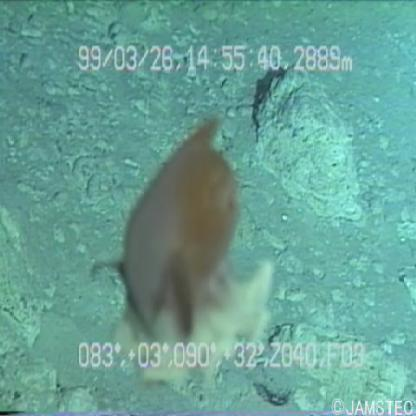Bio: (86, 110, 280, 392)
